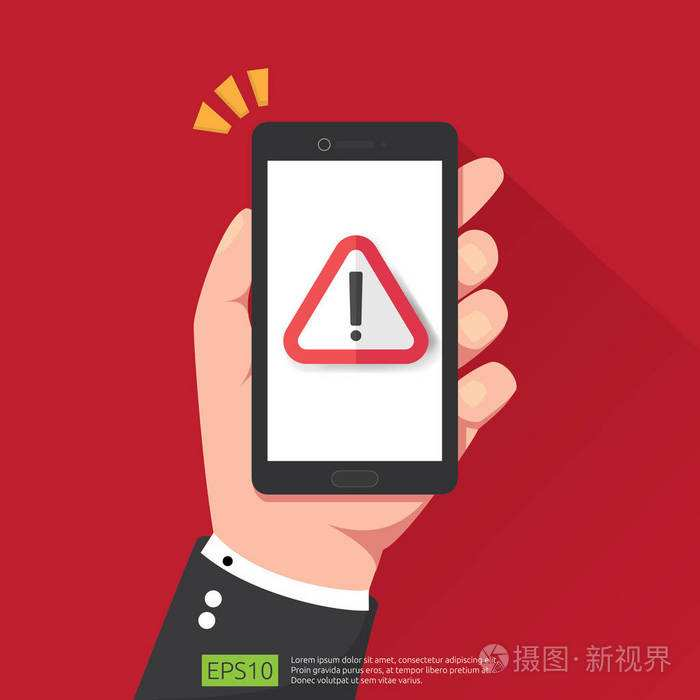phone: (172, 92, 526, 597)
